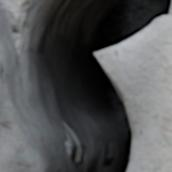broken_brick: (97, 16, 171, 171), (0, 41, 37, 171), (0, 7, 11, 31)
crack: (0, 0, 171, 171)
